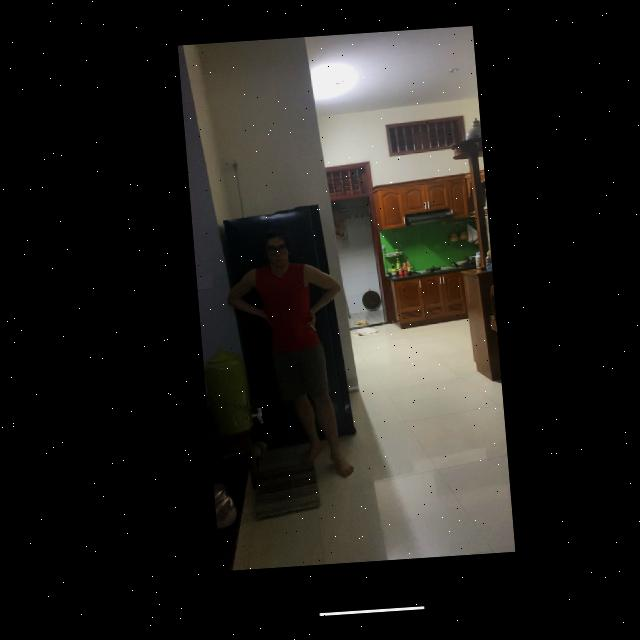cigarette: (301, 325, 309, 335)
